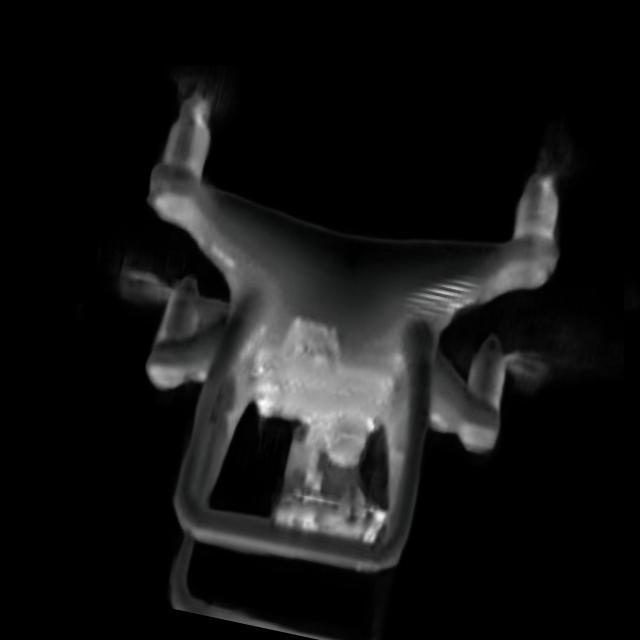drone: (83, 66, 624, 640)
